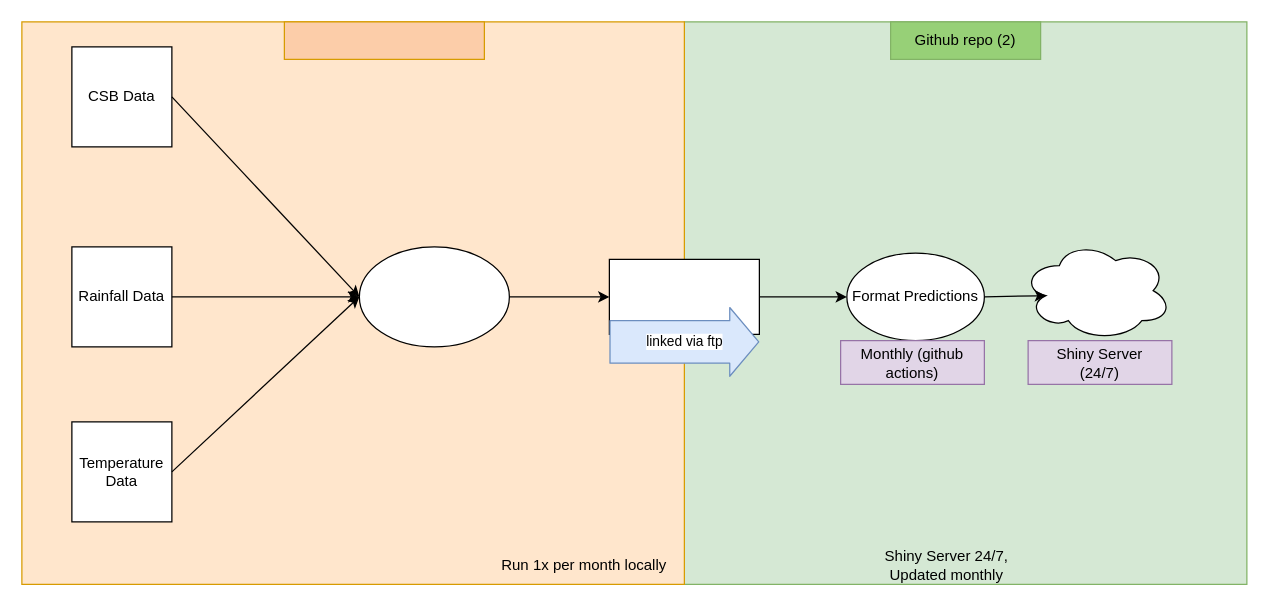
Image size: 1269x606. Some labels were removed from this diagram. The shapes that lost their labels are listed below. From the top down, each one's centre as x and y in pixels, then its label:
At (x=383, y=40): "Github repo (1)".
At (x=433, y=296): "INLA Model".
At (x=683, y=296): "Disease Predictions".
At (x=1096, y=290): "Shiny App".
